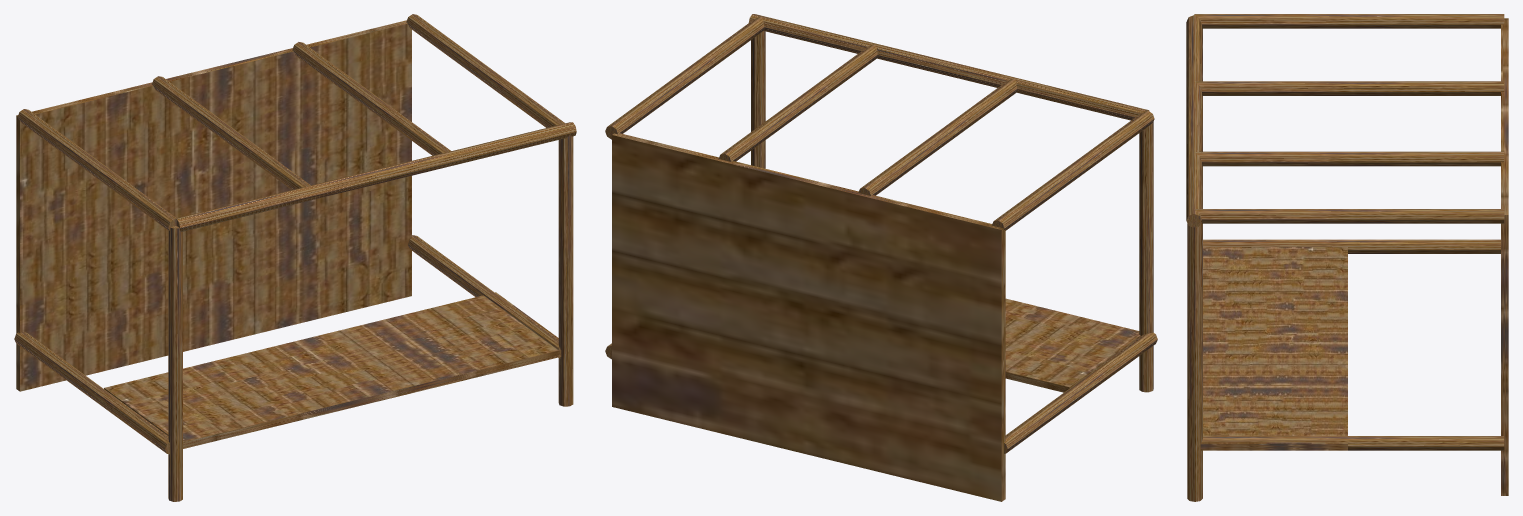
File: booth_01.glb
3 views of the same model, side by side, from view 1: azimuth 30°, elevation 25°; view 2: azimuth 150°, elevation 25°; view 3: azimuth 270°, elevation 25° (orthographic). The views are drawn at different scales.
Parts seen in each view (by area): view 1: Booth_01; view 2: Booth_01; view 3: Booth_01.
Part boxes in pixels (x1,y1,x2,y2): Booth_01: [14, 14, 576, 501]; Booth_01: [605, 14, 1157, 501]; Booth_01: [1186, 14, 1508, 501].
Size of the model in its own units: 6.24 by 4.1 by 4.16.
10 materials, 10 textured.
